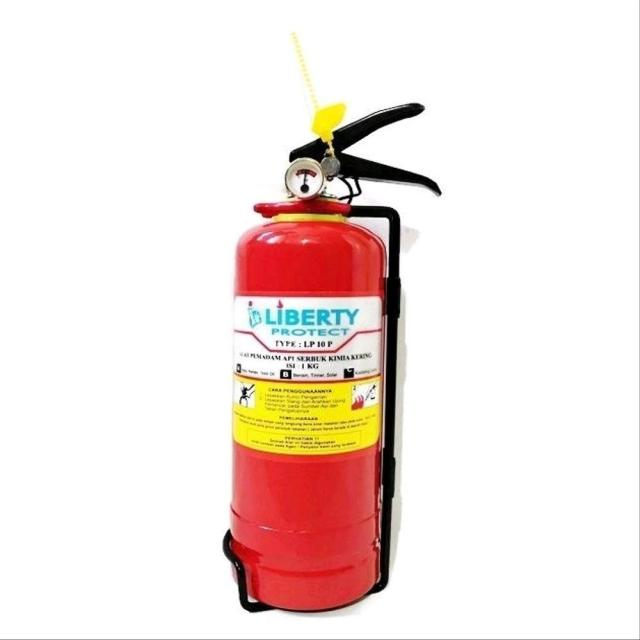fire_extinguisher: (214, 99, 446, 617)
